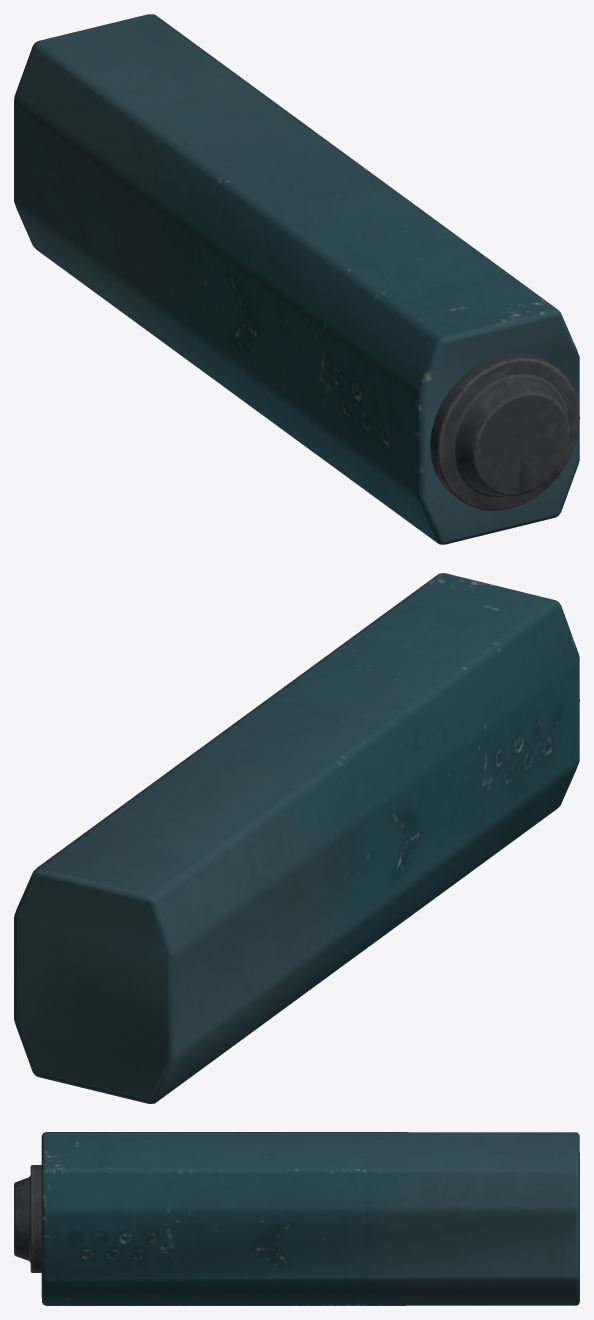
File: arm.obj
3 views of the same model, one above another, from view 1: azimuth 30°, elevation 25°; view 2: azimuth 150°, elevation 25°; view 3: azimuth 270°, elevation 25° (orthographic). The views are drawn at different scales.
Visible parts, largest first — view 1: Hand_a_low.010, Hand_a_low.005; view 2: Hand_a_low.010; view 3: Hand_a_low.010, Hand_a_low.005.
Part boxes in pixels (bbox=[...]): Hand_a_low.010: bbox=[14, 14, 579, 544]; Hand_a_low.005: bbox=[430, 352, 579, 510]; Hand_a_low.010: bbox=[14, 573, 579, 1103]; Hand_a_low.010: bbox=[41, 1132, 579, 1305]; Hand_a_low.005: bbox=[14, 1165, 41, 1272].
Size of the model in its own units: 0.2223 by 0.2741 by 1.02.
Materials: 1 (1 with a texture image).
